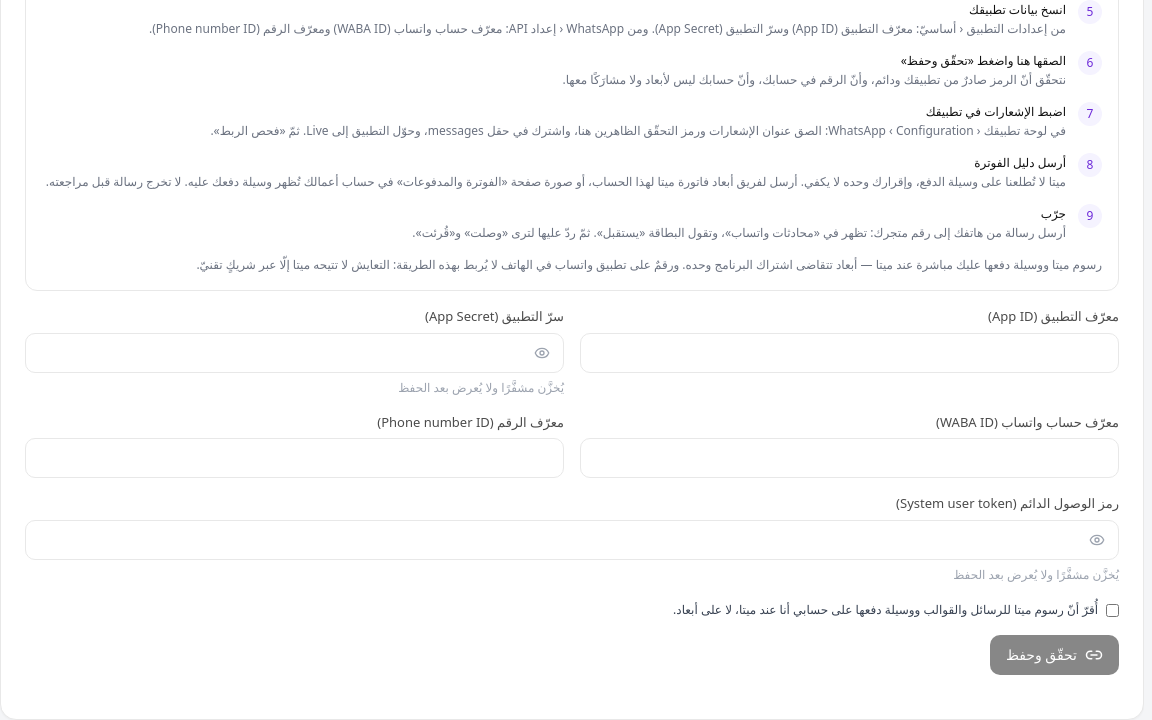
Test case: ربط التاجر بتطبيقه على Meta › لا يُحفظ قبل أن يُقرّ التاجر أنّ رسوم ميتا عليه
(page scrolled)
Expected: the button with test id "own-app-submit" is disabled, [990, 635, 1119, 675]
Click the checkbox with test id "own-app-billing-ack": coordinates (1112, 610) [1106, 604, 1119, 617]
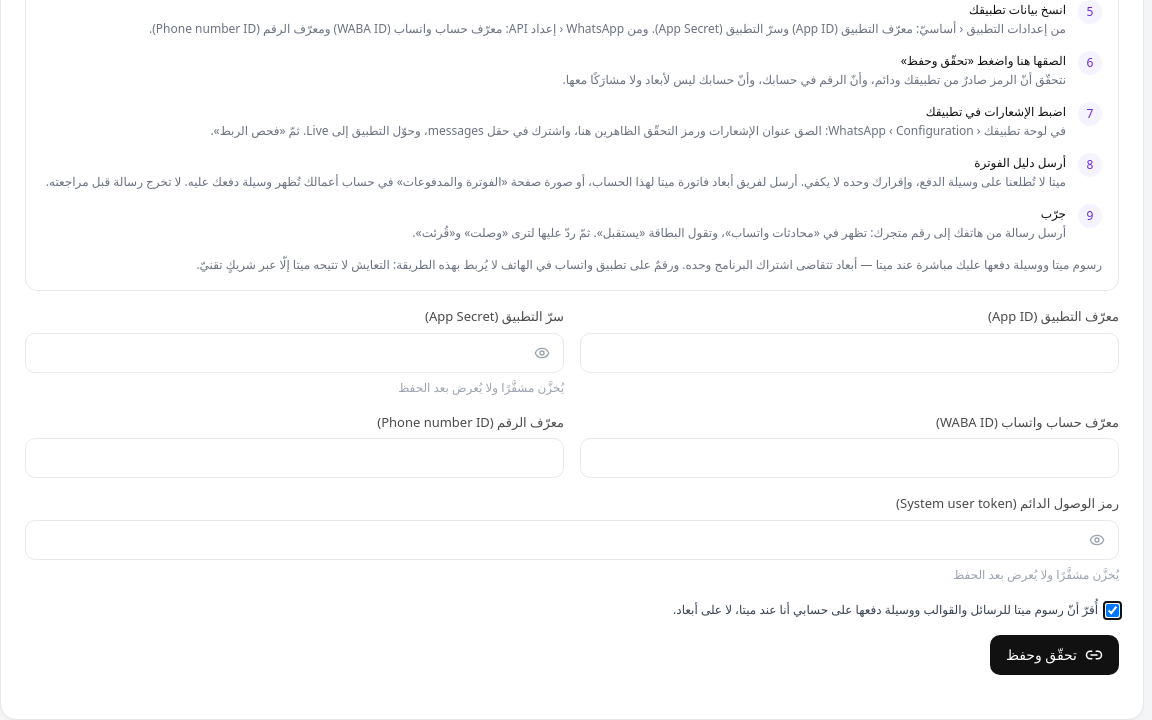
Expected: the button with test id "own-app-submit" is enabled, [990, 635, 1119, 675]
